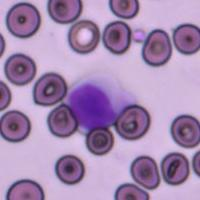L: (64, 74, 136, 133)
